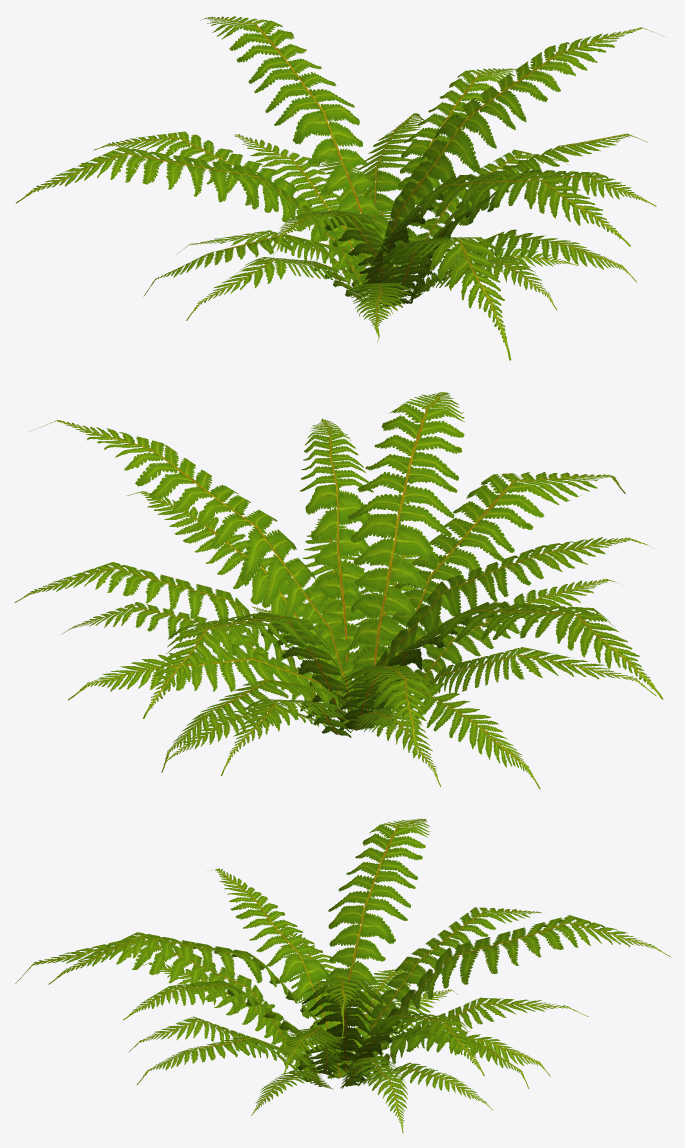
Rendered from fern.fbx.
3 views of the same model, one above another, from view 1: azimuth 30°, elevation 25°; view 2: azimuth 150°, elevation 25°; view 3: azimuth 270°, elevation 25° (orthographic). The views are drawn at different scales.
Parts seen in each view (by area): view 1: polySurface2048; view 2: polySurface2048; view 3: polySurface2048.
Boxes of the visible parts, x1,y1,x2,y2 form: polySurface2048: [16, 16, 666, 360]; polySurface2048: [14, 392, 663, 789]; polySurface2048: [15, 818, 670, 1133].
Size of the model in its own units: 103 by 32.57 by 108.
